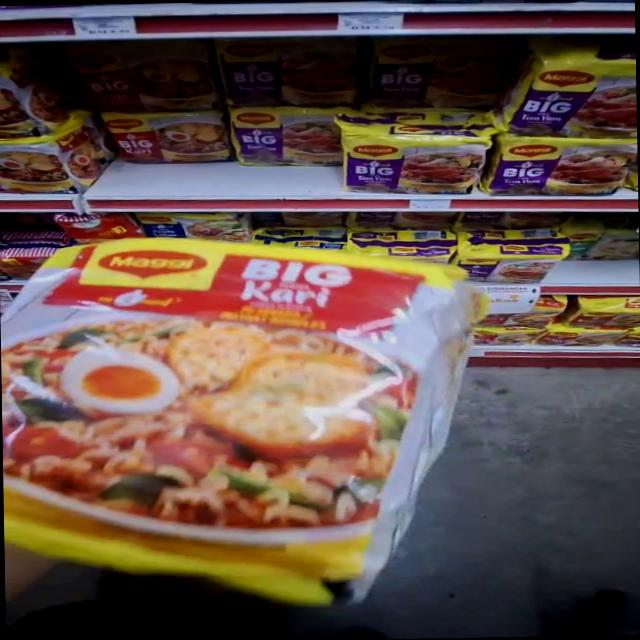Maggi: (0, 231, 497, 626), (486, 45, 637, 138), (338, 118, 487, 196), (490, 139, 638, 198), (103, 114, 236, 172), (0, 130, 113, 196), (235, 110, 342, 166)
